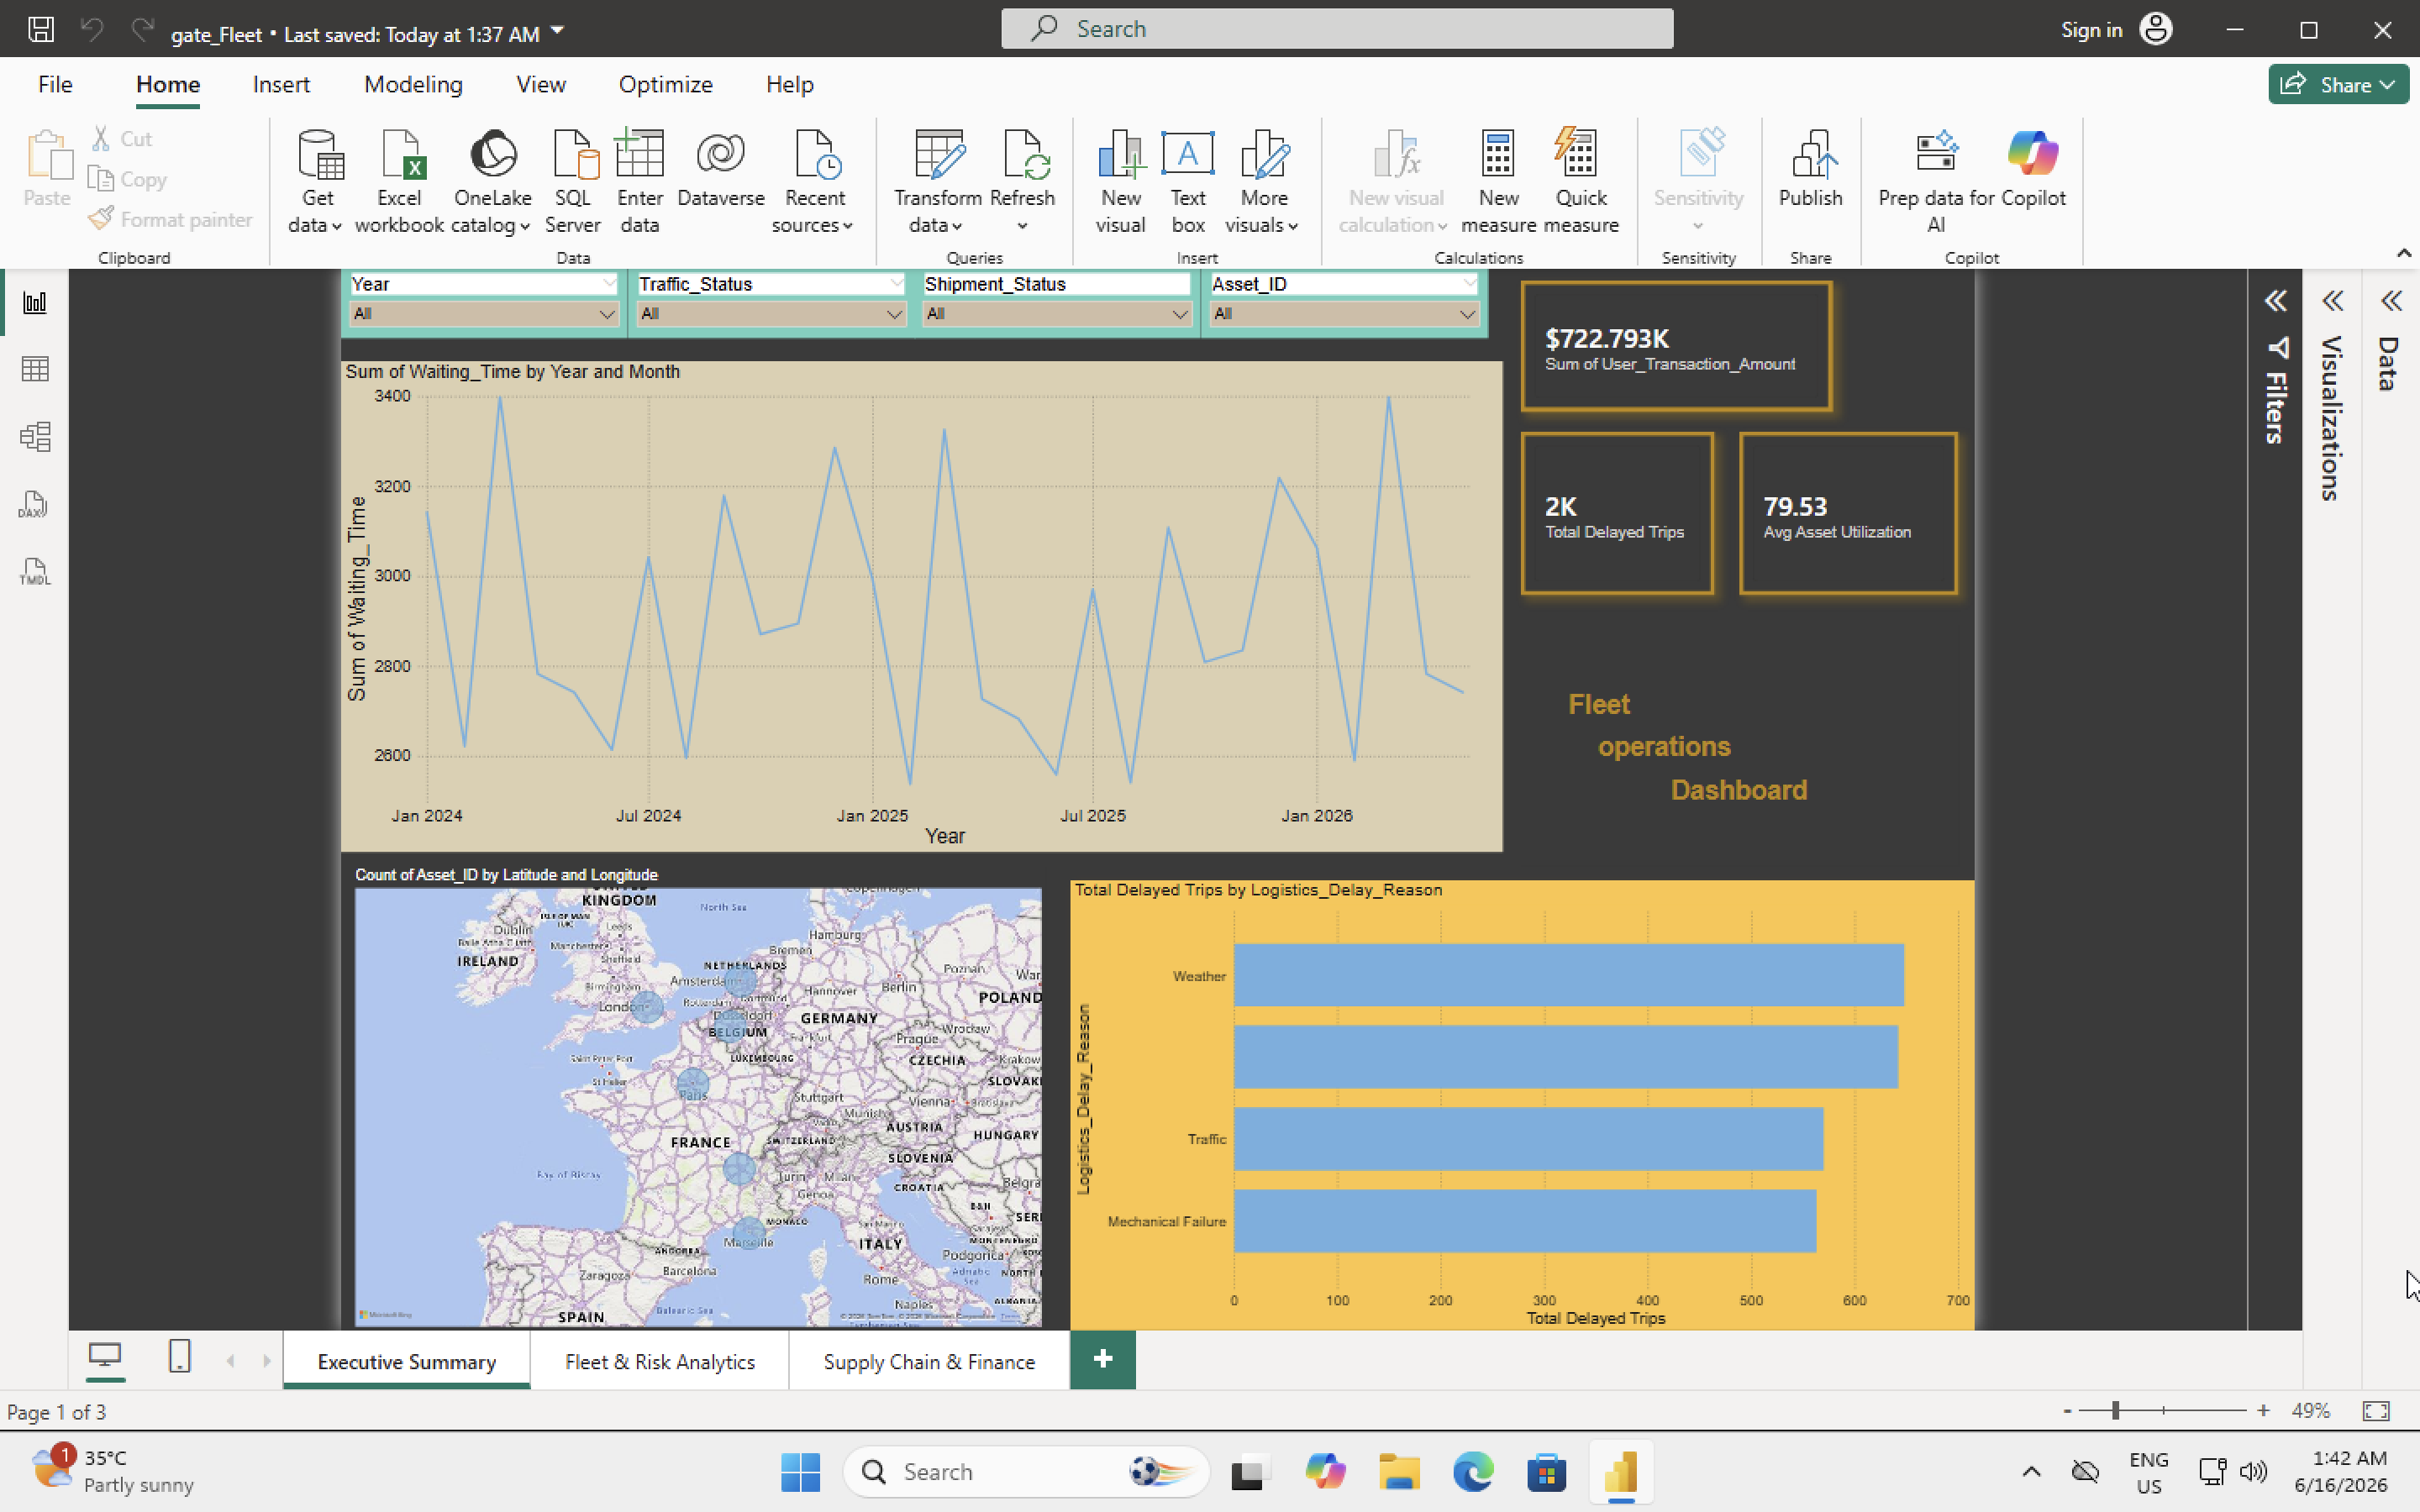

Layout of this report page (visuals, bound fields, positions):
{"tool":"powerbi","page":{"name":"Executive Summary","canvas":[2000,1300],"ordinal":0},"visuals":[{"type":"lineChart","fields":{"Y":["Sum(fleet_telemetry_2024_2026.Waiting_Time)"],"Category":["fleet_telemetry_2024_2026.Timestamp.Variation.Date Hierarchy.Year","fleet_telemetry_2024_2026.Timestamp.Variation.Date Hierarchy.Month"]},"box":[0,113.5,1422.1,600.6],"z":0},{"type":"slicer","fields":{"Values":["fleet_telemetry_2024_2026.Timestamp.Variation.Date Hierarchy.Year"]},"box":[0,0,350.9,84.6],"z":1000},{"type":"cardVisual","fields":{"Data":["All_measures.Total Delayed Trips"]},"box":[1444.8,200.2,237.4,200.2],"z":2000},{"type":"cardVisual","fields":{"Data":["All_measures.Avg Asset Utilization"]},"box":[1711,200.2,268.3,200.2],"z":3000},{"type":"cardVisual","fields":{"Data":["Sum(fleet_telemetry_2024_2026.User_Transaction_Amount)"]},"box":[1444.8,14.4,381.8,161],"z":4000},{"type":"clusteredBarChart","fields":{"Category":["fleet_telemetry_2024_2026.Logistics_Delay_Reason"],"Y":["All_measures.Total Delayed Trips"]},"box":[892.7,748.7,1106.6,551.3],"z":5000},{"type":"map","fields":{"Size":["CountNonNull(fleet_telemetry_2024_2026.Asset_ID)"],"X":["fleet_telemetry_2024_2026.Longitude"],"Y":["fleet_telemetry_2024_2026.Latitude"]},"box":[12.3,732.3,849.5,567.7],"z":6000},{"type":"slicer","fields":{"Values":["fleet_telemetry_2024_2026.Traffic_Status"]},"box":[350.9,0,350.9,84.6],"z":7000},{"type":"slicer","fields":{"Values":["fleet_telemetry_2024_2026.Shipment_Status"]},"box":[701.8,0,350.9,84.6],"z":8000},{"type":"slicer","fields":{"Values":["fleet_telemetry_2024_2026.Asset_ID"]},"box":[1052.6,0,350.9,84.6],"z":9000},{"type":"textbox","box":[1444.8,435.5,534.6,295.1],"z":10000}]}

Visuals, with their boxes on the page's 2000x1300 design canvas (x1, y1, x2, y2). These are canvas units, not pixel positions in the 2420x1512 screenshot, which may show the page scaled, cropped or inside an application window:
lineChart - Sum(fleet_telemetry_2024_2026.Waiting_Time) x fleet_telemetry_2024_2026.Timestamp.Variation.Date Hierarchy.Year: BBox(0, 114, 1422, 714)
slicer - fleet_telemetry_2024_2026.Timestamp.Variation.Date Hierarchy.Year: BBox(0, 0, 351, 85)
cardVisual - All_measures.Total Delayed Trips: BBox(1445, 200, 1682, 400)
cardVisual - All_measures.Avg Asset Utilization: BBox(1711, 200, 1979, 400)
cardVisual - Sum(fleet_telemetry_2024_2026.User_Transaction_Amount): BBox(1445, 14, 1827, 175)
clusteredBarChart - fleet_telemetry_2024_2026.Logistics_Delay_Reason x All_measures.Total Delayed Trips: BBox(893, 749, 1999, 1300)
map - CountNonNull(fleet_telemetry_2024_2026.Asset_ID) x fleet_telemetry_2024_2026.Longitude: BBox(12, 732, 862, 1300)
slicer - fleet_telemetry_2024_2026.Traffic_Status: BBox(351, 0, 702, 85)
slicer - fleet_telemetry_2024_2026.Shipment_Status: BBox(702, 0, 1053, 85)
slicer - fleet_telemetry_2024_2026.Asset_ID: BBox(1053, 0, 1404, 85)
textbox: BBox(1445, 436, 1979, 731)
